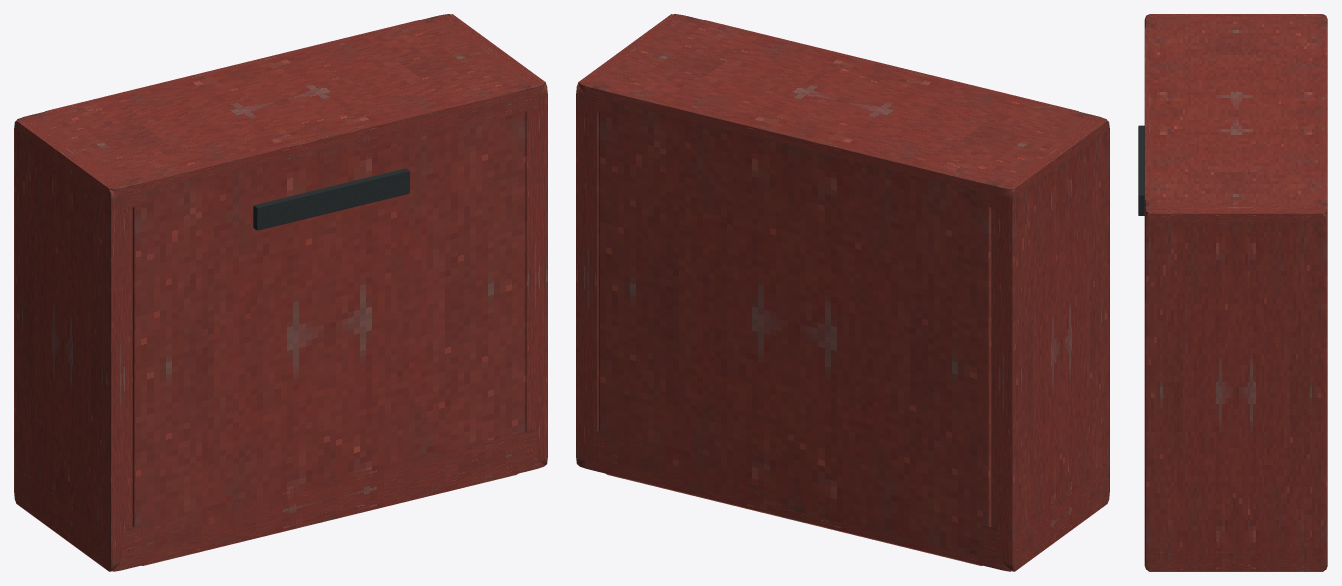
File: aed.glb
3 renders of one model, left to right at view 1: azimuth 30°, elevation 25°; view 2: azimuth 150°, elevation 25°; view 3: azimuth 270°, elevation 25°, orthographic. The views are drawn at different scales.
Visible parts, largest first — view 1: edge (×2), side (×2), lid, bottom, grip; view 2: edge (×2), side (×2), lid, bottom; view 3: side (×2), lid, bottom, edge (×2), grip.
Part boxes in pixels (left/top/right/bottom): edge (×2): left=44, top=20, right=526, bottom=565; side (×2): left=14, top=14, right=547, bottom=571; lid: left=16, top=14, right=545, bottom=210; bottom: left=16, top=429, right=545, bottom=571; grip: left=253, top=168, right=409, bottom=230; edge (×2): left=597, top=20, right=1079, bottom=565; side (×2): left=576, top=14, right=1109, bottom=571; lid: left=578, top=14, right=1107, bottom=210; bottom: left=578, top=429, right=1107, bottom=571; side (×2): left=1144, top=14, right=1327, bottom=571; lid: left=1144, top=14, right=1327, bottom=234; bottom: left=1144, top=533, right=1327, bottom=571; edge (×2): left=1145, top=28, right=1327, bottom=199; grip: left=1138, top=125, right=1144, bottom=215.
Bounding box in the file's own units: 0.31 × 0.26 × 0.1242.
2 materials, 2 textured.
